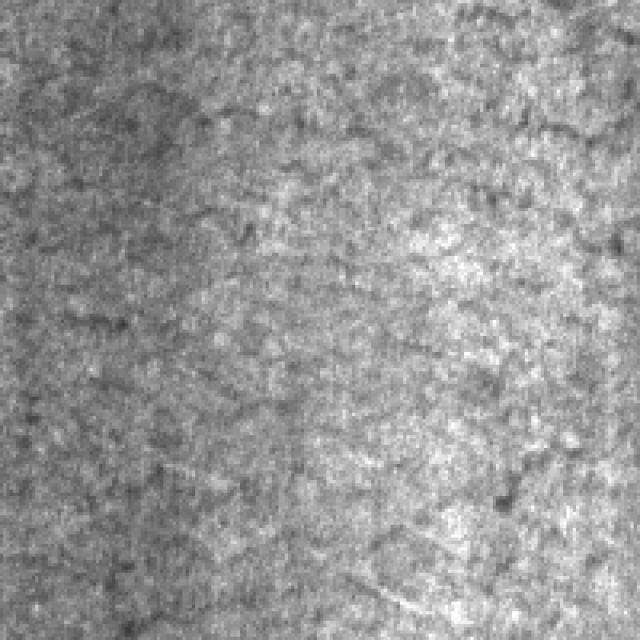crazing: (0, 74, 384, 234), (413, 0, 637, 262)
